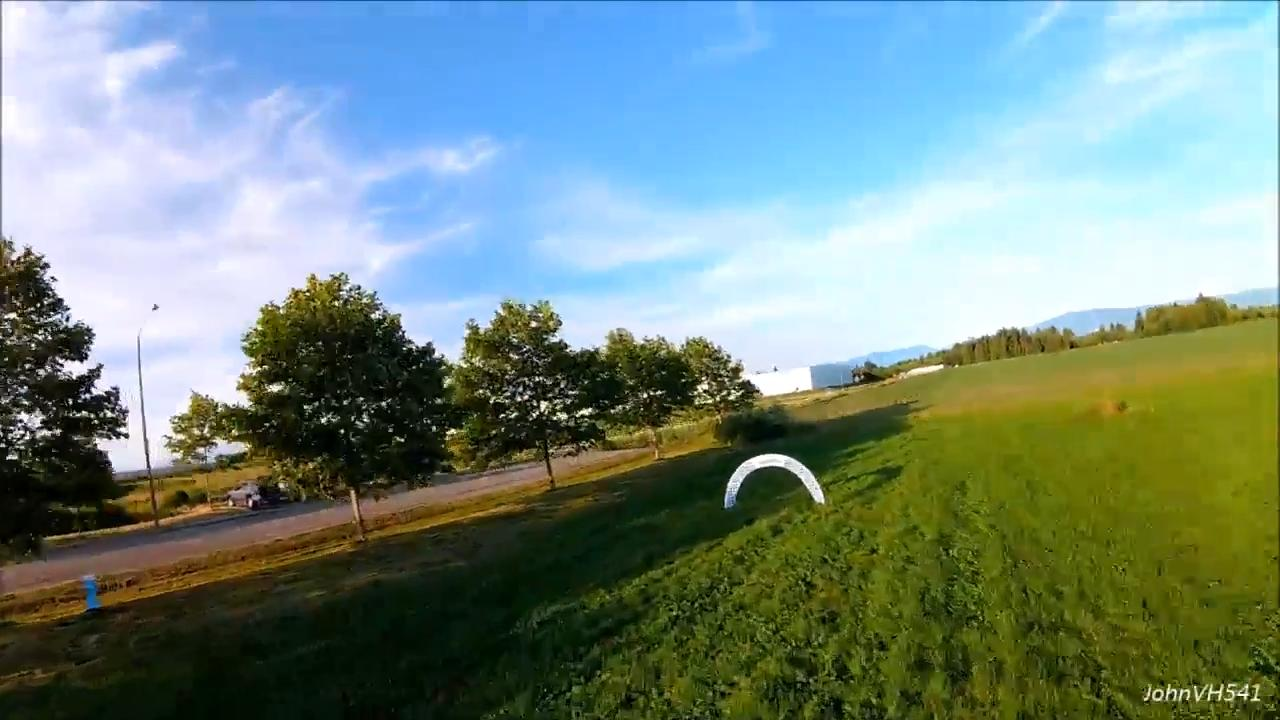gate: (723, 451, 828, 509)
